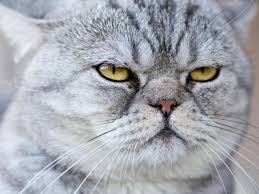cat: (1, 3, 252, 192)
